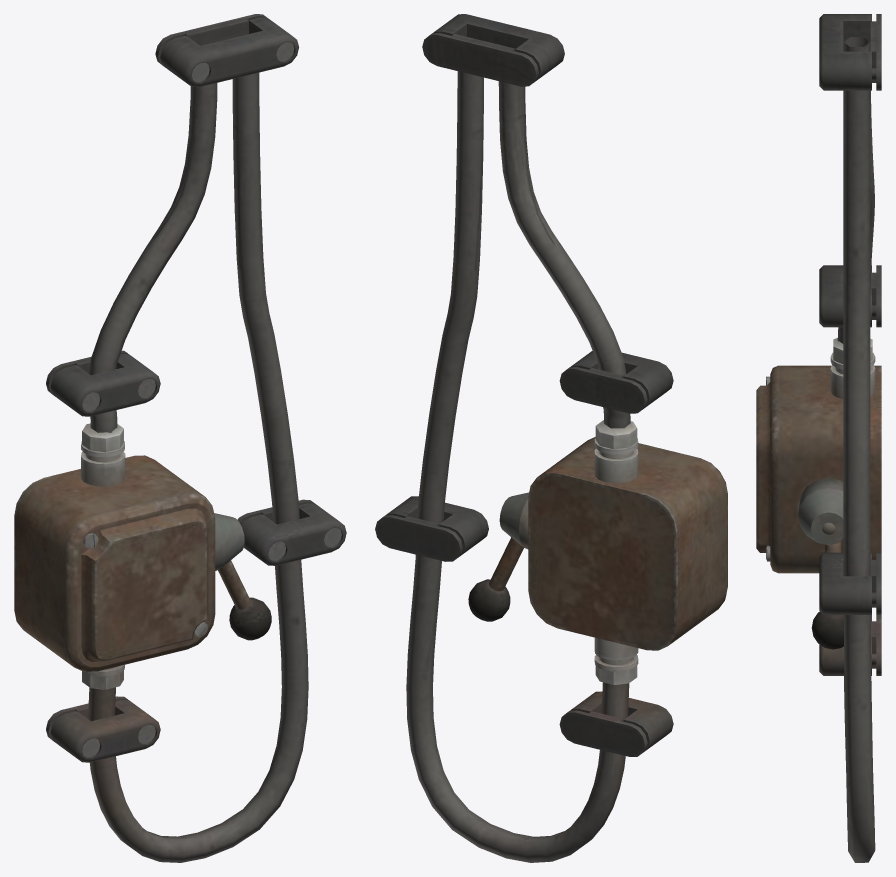
Rendered from cable_switch.gltf.
3 views of the same model, side by side, from view 1: azimuth 30°, elevation 25°; view 2: azimuth 150°, elevation 25°; view 3: azimuth 270°, elevation 25° (orthographic).
Visible parts, largest first — view 1: cable_switch; view 2: cable_switch; view 3: cable_switch.
Part boxes in pixels (left/top/right/bottom): cable_switch: left=14, top=14, right=346, bottom=862; cable_switch: left=375, top=14, right=727, bottom=862; cable_switch: left=756, top=14, right=881, bottom=862.
Bounding box in the file's own units: 0.1469 × 0.3788 × 0.0522.
Materials: 1 (1 with a texture image).
